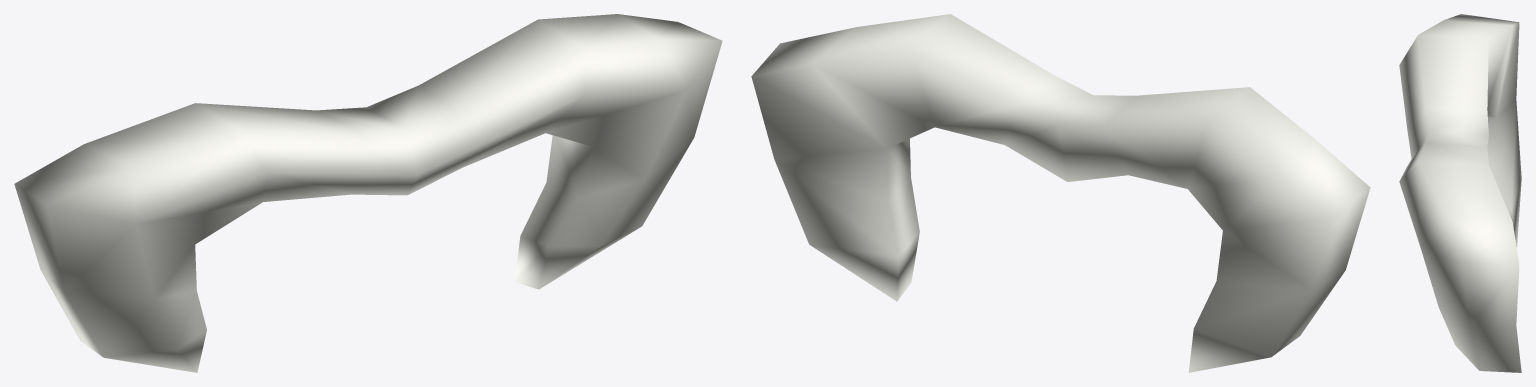
Rendered from Beard_White_6.fbx.
The picture shows the model from 3 angles, left to right: view 1: azimuth 30°, elevation 25°; view 2: azimuth 150°, elevation 25°; view 3: azimuth 270°, elevation 25°; orthographic projection. The views are drawn at different scales.
Visible parts, largest first — view 1: Beard_White_6; view 2: Beard_White_6; view 3: Beard_White_6.
Part boxes in pixels (left/top/right/bottom): Beard_White_6: left=14, top=14, right=722, bottom=372; Beard_White_6: left=751, top=14, right=1370, bottom=372; Beard_White_6: left=1399, top=14, right=1521, bottom=372.
Size of the model in its own units: 29.49 by 11.68 by 6.15.
